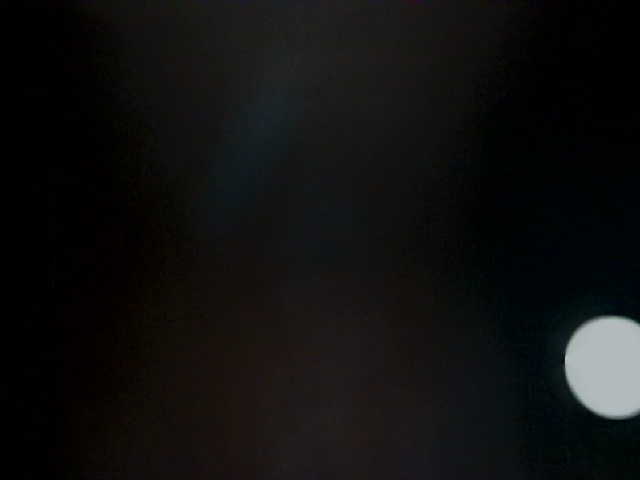KHSLJ: (54, 1, 337, 255)
